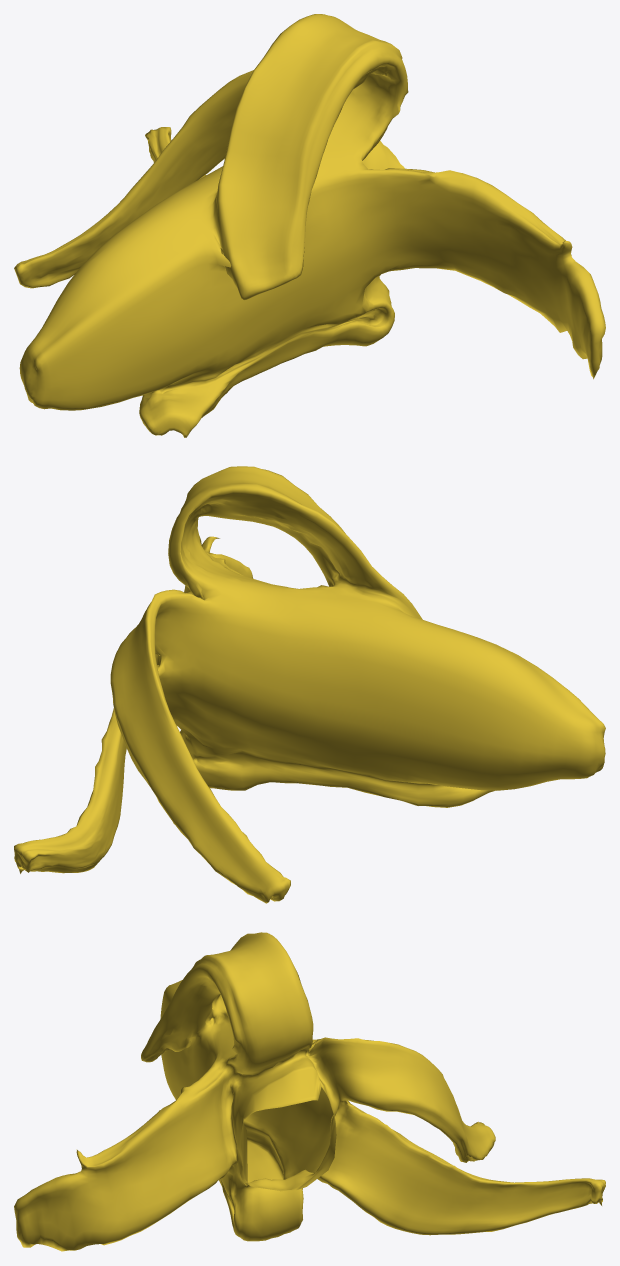
The model's file is 香蕉皮.FBX.
The picture shows the model from 3 angles, top to bottom: view 1: azimuth 30°, elevation 25°; view 2: azimuth 150°, elevation 25°; view 3: azimuth 270°, elevation 25°; orthographic projection. The views are drawn at different scales.
Parts seen in each view (by area): view 1: 香蕉皮; view 2: 香蕉皮; view 3: 香蕉皮.
Boxes of the visible parts, left/top/right/bottom form: 香蕉皮: left=14, top=14, right=605, bottom=437; 香蕉皮: left=14, top=466, right=605, bottom=903; 香蕉皮: left=14, top=932, right=605, bottom=1251.
Size of the model in its own units: 3.55 by 2.23 by 4.25.
